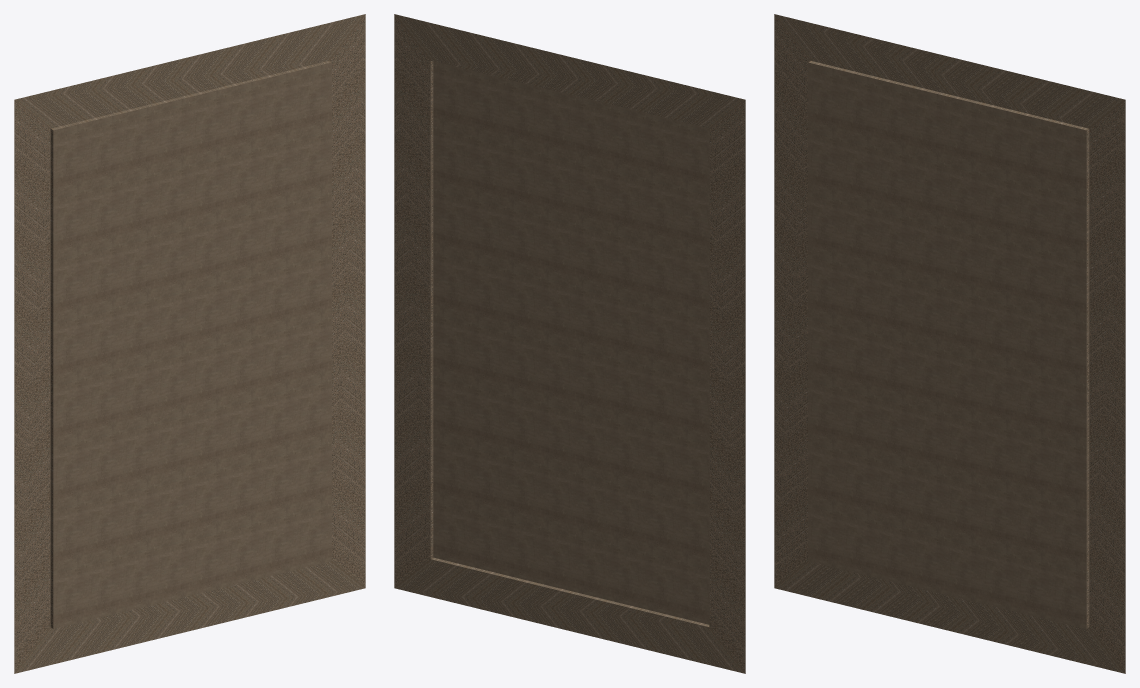
File: arena.dae
The picture shows the model from 3 angles, left to right: view 1: azimuth 30°, elevation 25°; view 2: azimuth 150°, elevation 25°; view 3: azimuth 330°, elevation 25°; orthographic projection.
Parts seen in each view (by area): view 1: Floor; view 2: Floor; view 3: Floor.
Boxes of the visible parts, box(x1,y1,x2,y2) form: Floor: box(14, 14, 365, 673); Floor: box(394, 14, 745, 673); Floor: box(774, 14, 1125, 673).
Size of the model in its own units: 81.77 by 0.9866 by 128.
